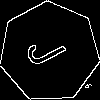J: (24, 27, 76, 71)
